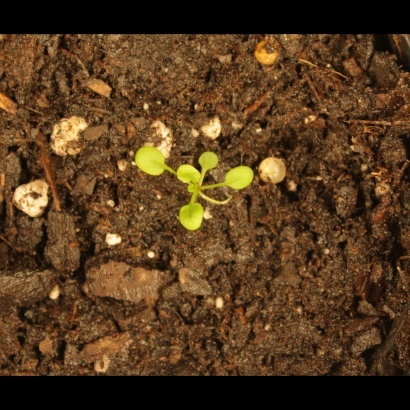leaf: (134, 142, 168, 182), (173, 201, 206, 235), (221, 163, 257, 193), (175, 162, 202, 191), (197, 150, 220, 173)
